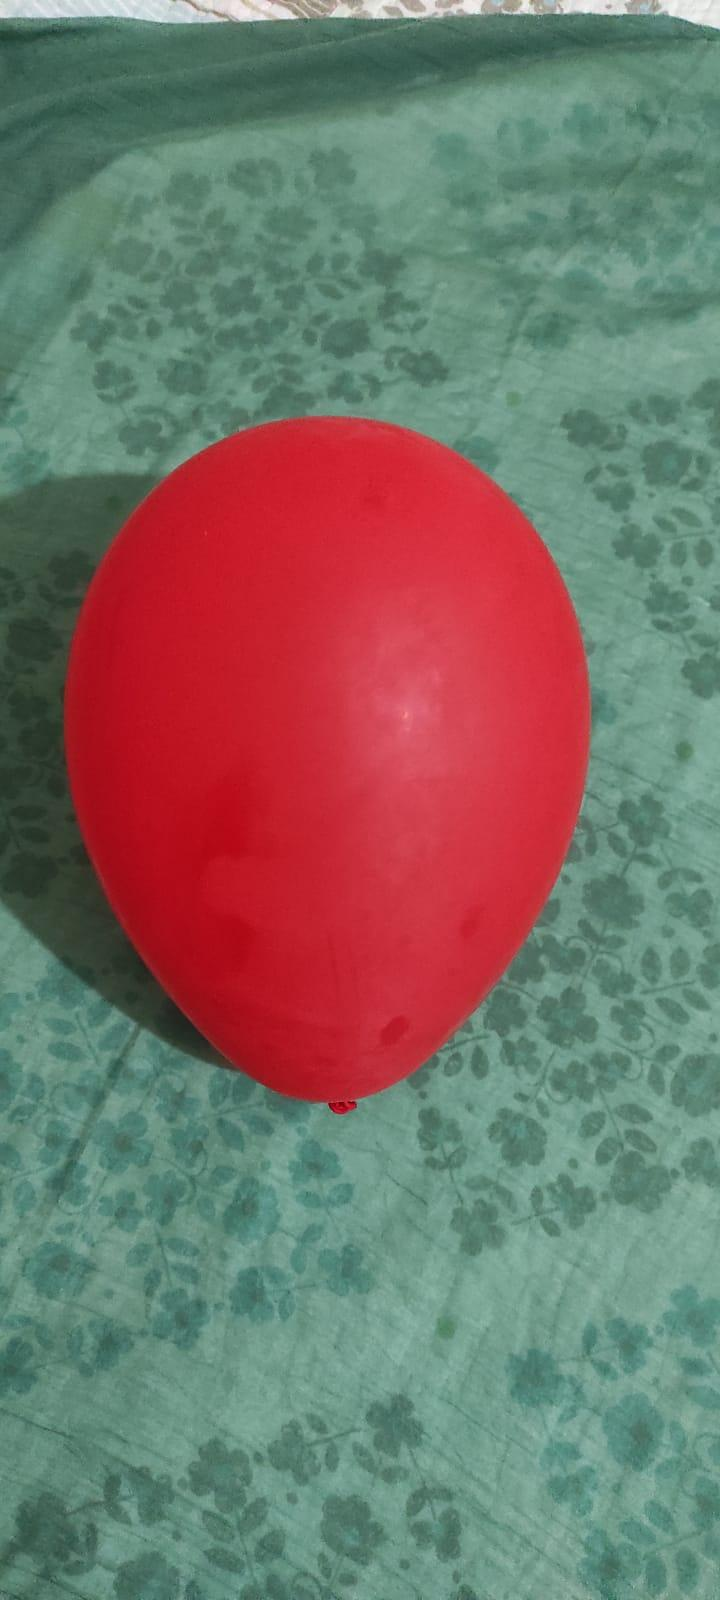red: (60, 407, 598, 1135)
